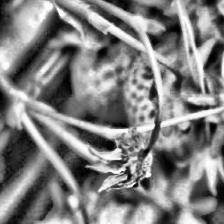Gray Mold: (86, 124, 157, 193)
